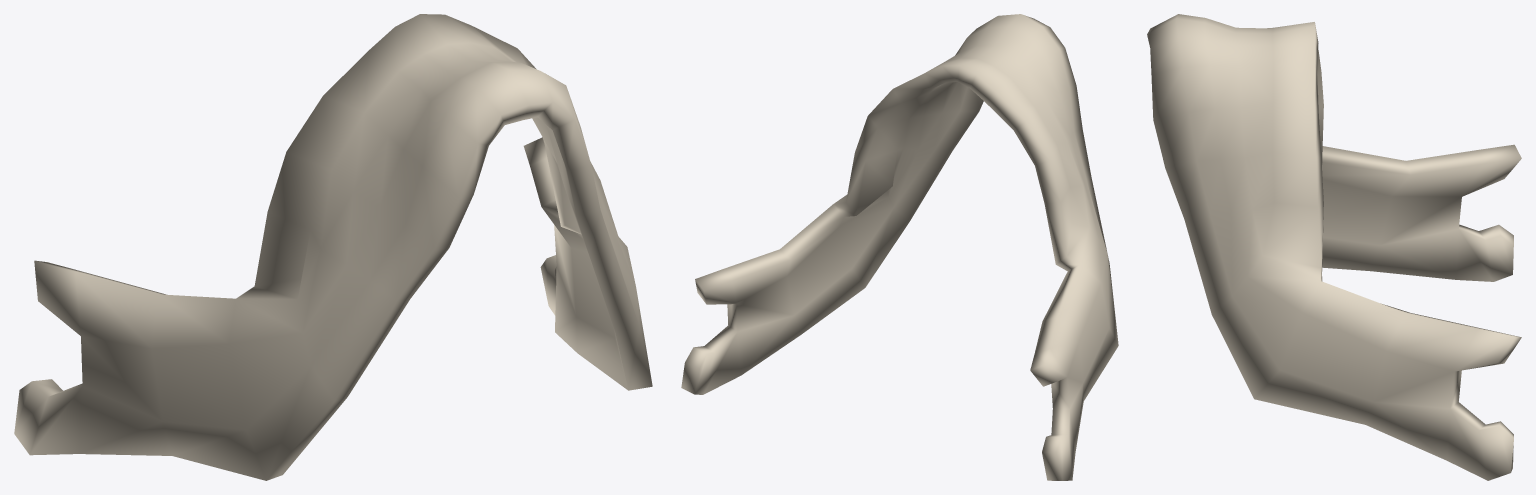
Rendered from Jaw.glb.
3 views of the same model, side by side, from view 1: azimuth 30°, elevation 25°; view 2: azimuth 150°, elevation 25°; view 3: azimuth 270°, elevation 25° (orthographic). The views are drawn at different scales.
Parts seen in each view (by area): view 1: Jaw; view 2: Jaw; view 3: Jaw.
Boxes of the visible parts, x1=… form: Jaw: x1=14, y1=14, x2=652, y2=480; Jaw: x1=681, y1=14, x2=1118, y2=480; Jaw: x1=1147, y1=14, x2=1521, y2=480.
Size of the model in its own units: 0.1809 by 0.1452 by 0.1371.
